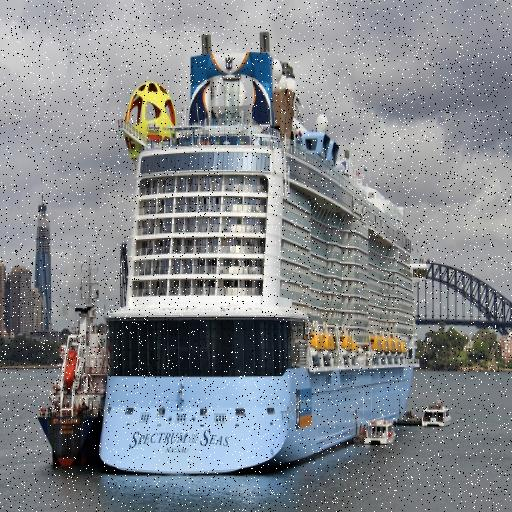cruises: (96, 28, 423, 484)
